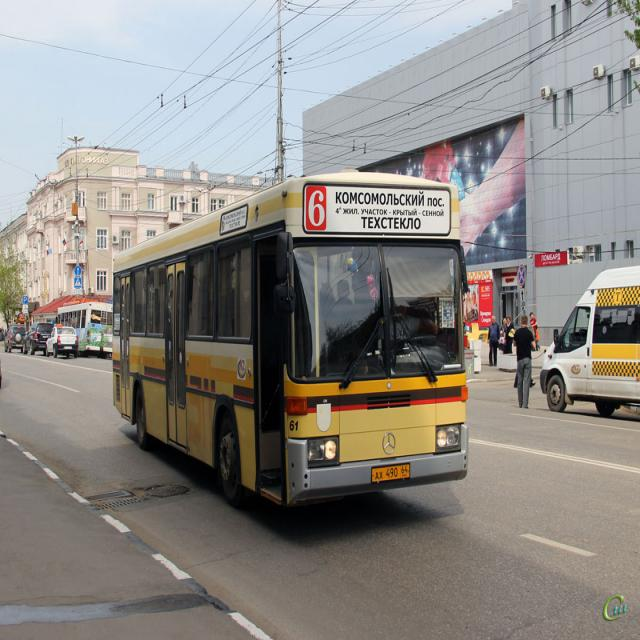number-of-bus: (306, 187, 328, 233)
